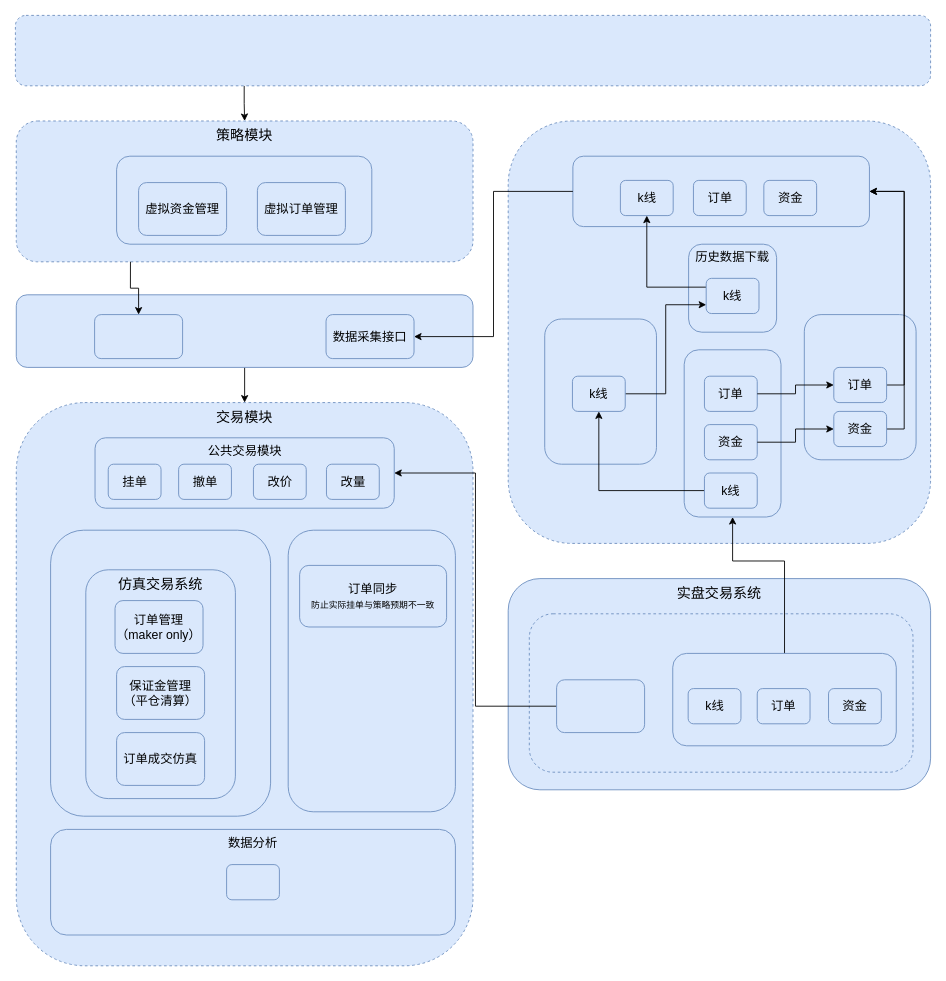
This 946x981 diagram has some shape labels left out. Each missing label, with the box of its shape:
Maker Only 策略: (116, 155, 372, 244)
UI 用户界面层: (15, 15, 931, 86)
交易所API: (528, 613, 913, 772)
内存 Memory: (803, 314, 916, 460)
回测模块: (50, 529, 271, 816)
图表: (226, 864, 279, 900)
实时数据: (672, 653, 896, 746)
实时数据采集: (683, 349, 781, 517)
实盘模块: (287, 529, 455, 812)
数据持久化 Clickhouse: (544, 318, 656, 464)
数据接口抽象: (572, 155, 869, 227)
数据采集模块: (507, 120, 931, 543)
策略&数据接口: (15, 294, 473, 367)
策略接口: (94, 314, 183, 359)
订单调整: (556, 679, 645, 733)
